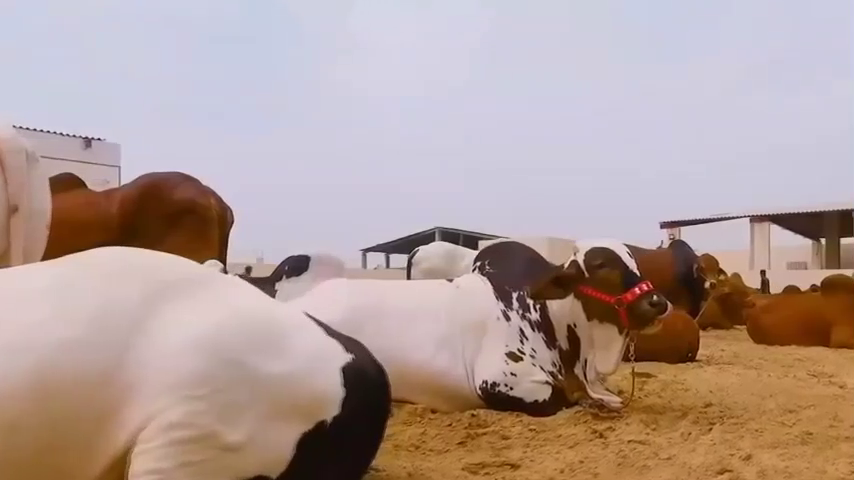bo: (2, 241, 399, 479), (309, 232, 664, 419), (48, 156, 238, 276), (2, 106, 61, 273), (739, 273, 852, 356), (624, 232, 718, 305), (648, 304, 700, 362)
